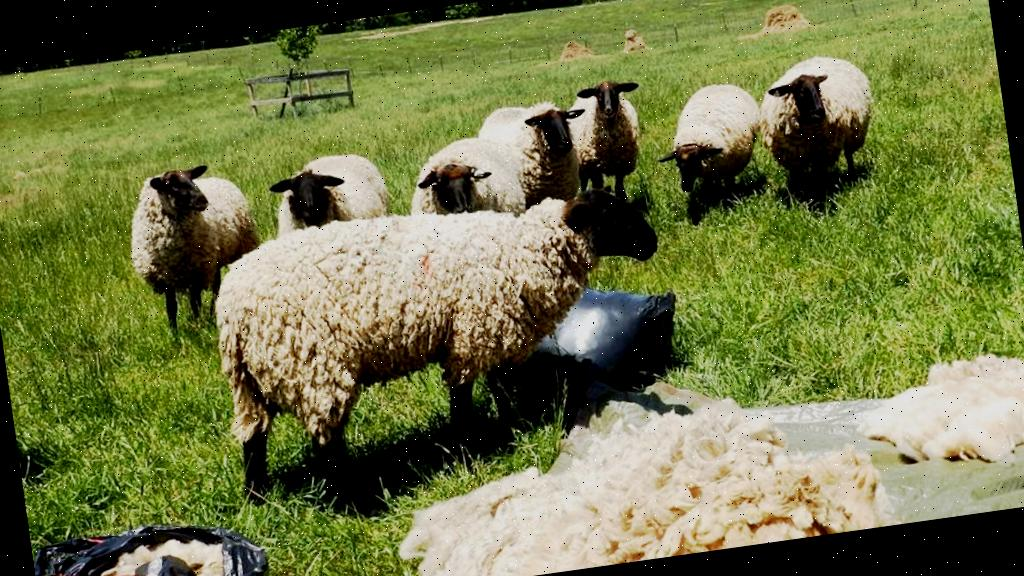Sheep: (202, 166, 686, 508), (120, 160, 272, 337), (754, 48, 885, 189), (478, 97, 594, 217), (665, 76, 772, 206), (404, 130, 542, 227), (560, 76, 658, 208), (264, 146, 391, 237), (479, 104, 533, 134)
